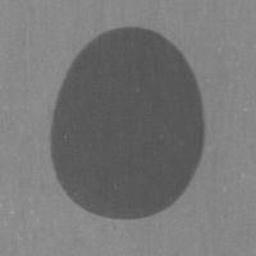Oil spot: (49, 24, 207, 221)
